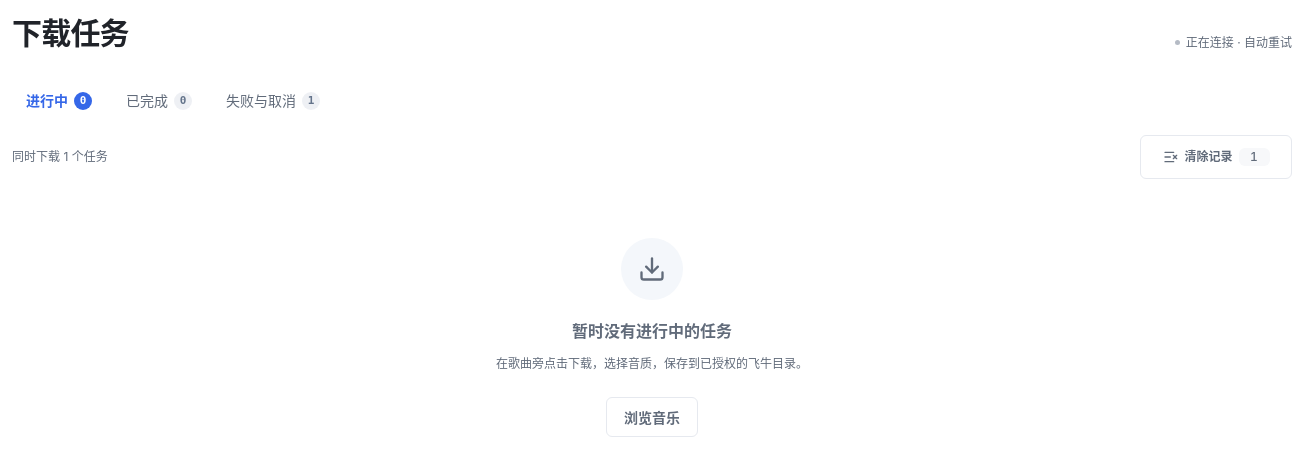
it: 下载页请求音质与文件格式 › 明天见 .audio 失败仍显示原错误及未识别，不把占位后缀当音频格式
This screenshot has width=1304, height=454.
Click the tab "失败与取消 1" at (273, 100), box [212,82,334,118]
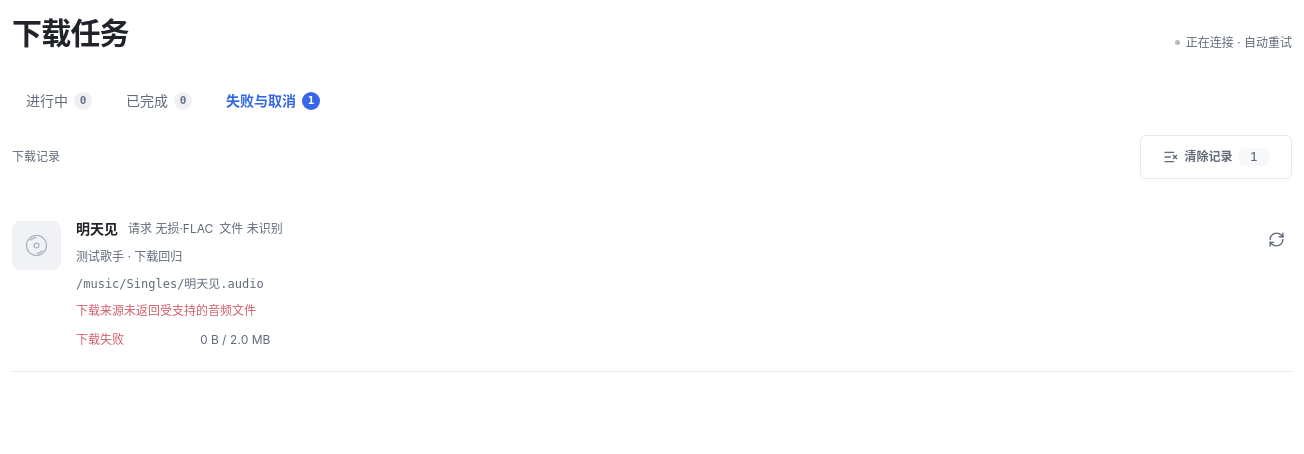
Expected: the text "请求 无损·FLAC" is shown, [128,219,213,237]
Expected: the text "文件 未识别" is shown, [219,219,285,237]
Expected: the text "下载来源未返回受支持的音频文件" is shown, [76,302,256,317]
